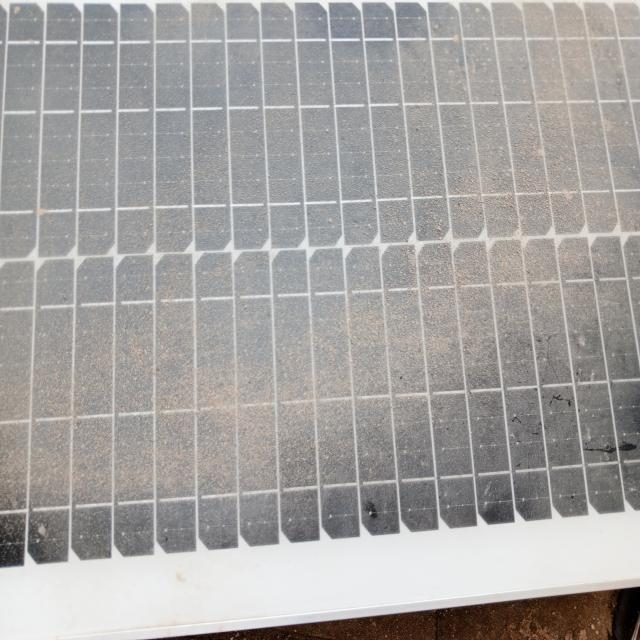Anomaly Solar Panel: (6, 14, 639, 549)
Surface Contaminant: (6, 14, 639, 549)
